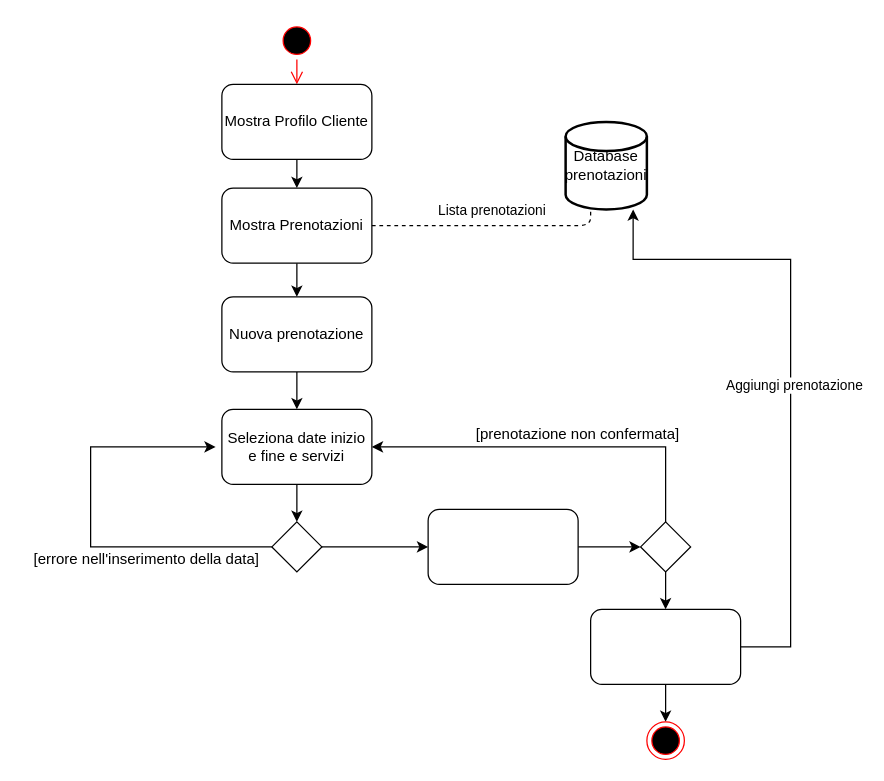
Image size: 884x781. Some labels were removed from this diagram. Here are the shapes that lost their labels. From the top down, the centre of each, then its label:
At [502,546]: "Conferma prenotazione".
At [665,646]: "Memorizza prenotazione".
